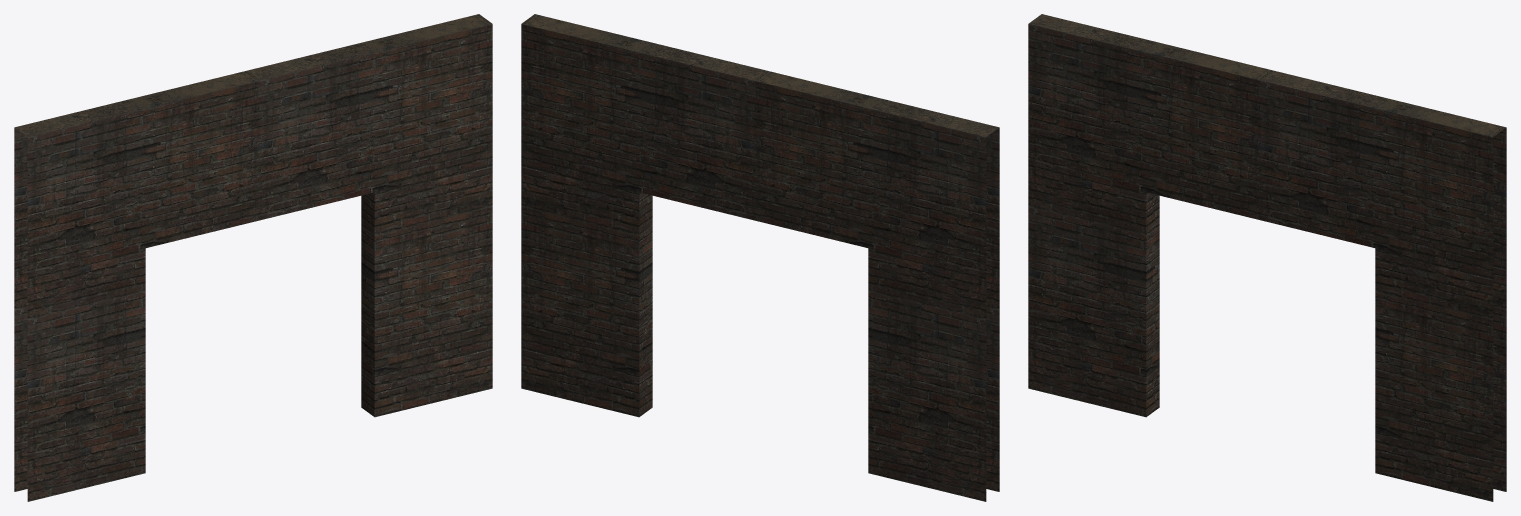
File: garage_door_frame_hs_1.fbx
The picture shows the model from 3 angles, left to right: view 1: azimuth 30°, elevation 25°; view 2: azimuth 150°, elevation 25°; view 3: azimuth 330°, elevation 25°; orthographic projection.
Visible parts, largest first — view 1: garage_door_frame_hs_1; view 2: garage_door_frame_hs_1; view 3: garage_door_frame_hs_1.
Part boxes in pixels (box(x1,y1,x2,y2)): garage_door_frame_hs_1: box(14, 14, 492, 501); garage_door_frame_hs_1: box(521, 14, 999, 501); garage_door_frame_hs_1: box(1028, 14, 1506, 501).
Size of the model in its own units: 8 by 0.4 by 6.
